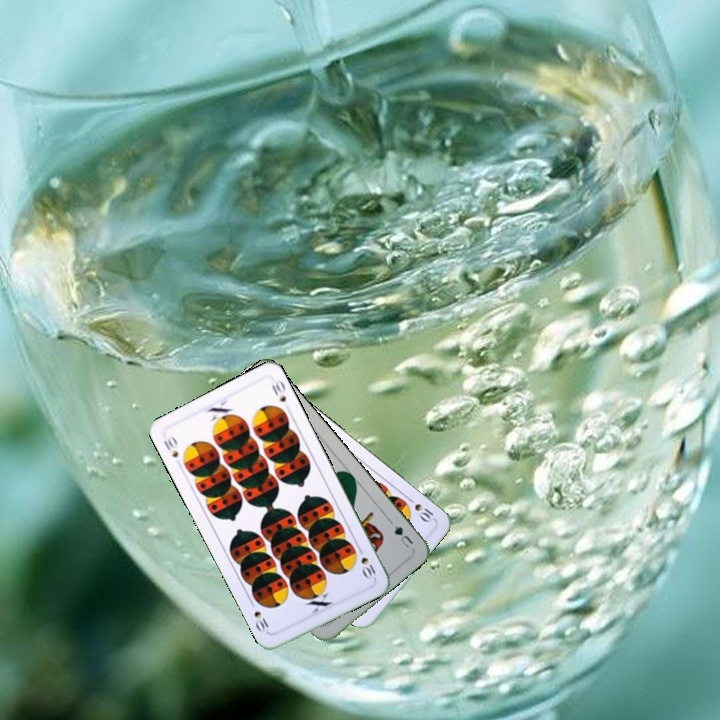GU: (390, 521, 416, 551)
S10: (403, 493, 436, 525), (354, 543, 378, 582), (159, 432, 181, 460)
